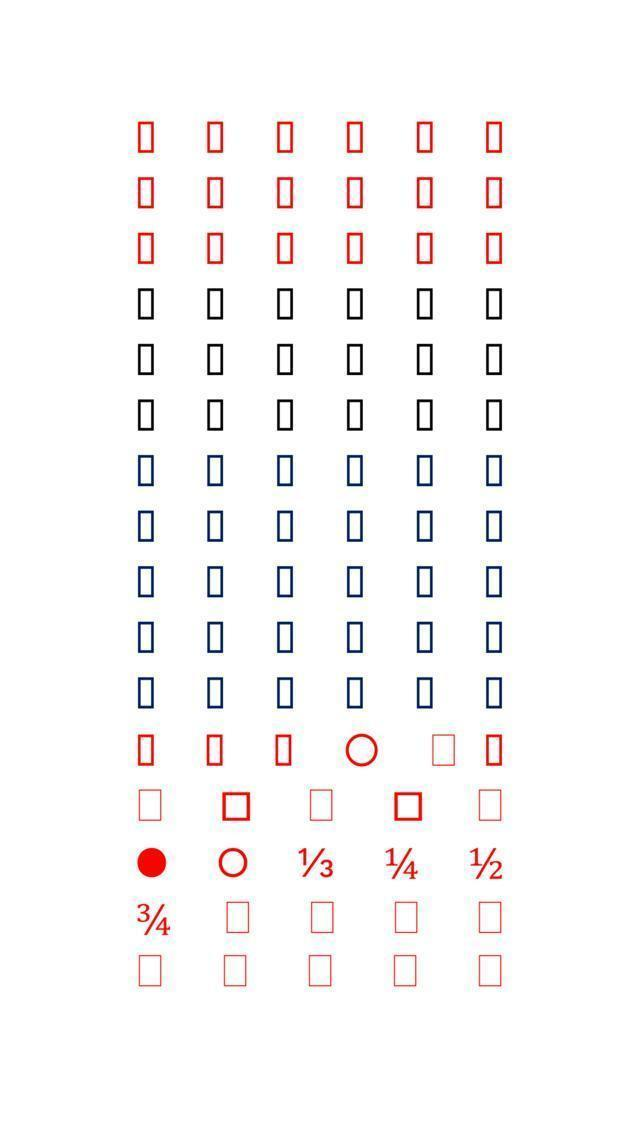ASCII: (134, 898, 174, 940), (296, 842, 335, 881), (467, 844, 504, 884), (304, 897, 340, 938), (392, 786, 427, 828), (386, 842, 420, 885), (302, 950, 336, 991), (304, 783, 336, 826), (472, 786, 507, 824), (475, 950, 506, 992), (346, 733, 380, 771), (132, 728, 162, 770), (429, 728, 459, 770), (219, 788, 254, 824), (476, 896, 506, 938), (390, 898, 422, 937), (389, 951, 420, 989), (137, 784, 165, 826), (223, 898, 253, 937), (220, 951, 249, 991), (135, 951, 165, 989), (272, 730, 296, 772), (483, 728, 504, 776), (138, 847, 168, 880), (218, 847, 248, 880), (482, 118, 508, 156), (204, 338, 226, 381), (484, 340, 506, 382), (134, 340, 156, 382), (414, 341, 436, 382), (205, 282, 227, 323), (274, 339, 296, 380), (343, 339, 365, 380), (205, 398, 227, 438), (276, 282, 298, 322), (416, 286, 438, 326), (134, 398, 156, 438), (344, 396, 366, 436), (344, 286, 366, 326), (275, 449, 297, 489), (343, 450, 365, 490), (206, 118, 228, 158), (276, 398, 298, 437), (135, 282, 156, 322), (415, 395, 436, 435), (276, 508, 298, 546), (344, 507, 366, 545), (414, 118, 436, 156), (414, 174, 436, 212), (484, 228, 506, 266), (345, 564, 365, 605), (135, 117, 156, 156), (484, 175, 506, 212), (416, 564, 436, 604), (484, 564, 504, 604), (276, 564, 296, 604), (204, 564, 224, 604), (137, 564, 157, 604), (416, 452, 436, 492), (416, 674, 436, 714), (484, 452, 504, 492), (345, 674, 365, 714), (136, 452, 156, 492), (416, 229, 437, 267), (484, 506, 504, 545), (277, 617, 297, 656), (416, 616, 436, 655), (136, 507, 156, 546), (484, 616, 504, 655), (204, 674, 224, 713), (486, 395, 506, 434), (276, 674, 296, 713), (204, 450, 224, 489), (484, 674, 504, 713), (206, 729, 226, 768), (277, 173, 297, 212), (345, 118, 365, 157), (205, 507, 225, 545), (484, 283, 504, 321), (345, 617, 365, 655), (205, 617, 225, 655), (136, 617, 156, 655), (276, 228, 296, 266), (206, 227, 226, 265), (136, 174, 156, 212), (206, 174, 226, 212), (275, 117, 295, 155), (346, 174, 366, 212), (416, 507, 436, 544), (344, 228, 364, 265), (136, 227, 155, 265), (138, 674, 156, 713)
